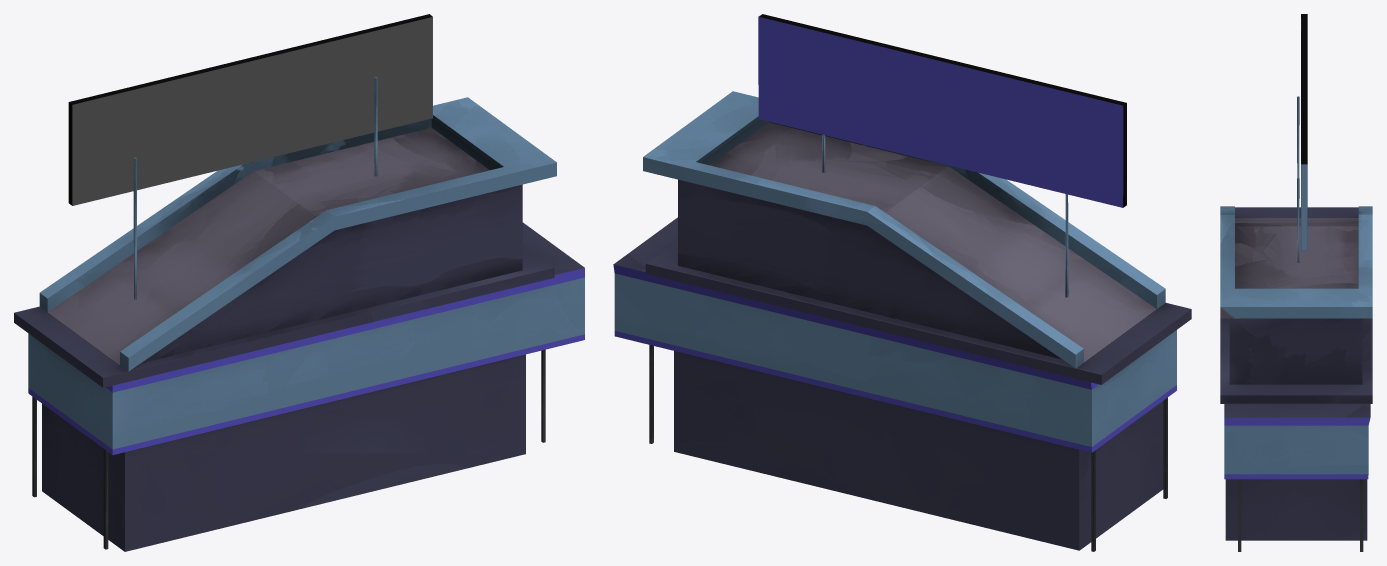
The model's file is Big Building 3.fbx.
The picture shows the model from 3 angles, left to right: view 1: azimuth 30°, elevation 25°; view 2: azimuth 150°, elevation 25°; view 3: azimuth 270°, elevation 25°; orthographic projection. The views are drawn at different scales.
Visible parts, largest first — view 1: FinalBuilding_Big_3; view 2: FinalBuilding_Big_3; view 3: FinalBuilding_Big_3.
Boxes of the visible parts, x1=… form: FinalBuilding_Big_3: x1=14, y1=14, x2=584, y2=551; FinalBuilding_Big_3: x1=613, y1=14, x2=1191, y2=551; FinalBuilding_Big_3: x1=1220, y1=14, x2=1372, y2=551.
Size of the model in its own units: 16.87 by 13.88 by 5.38.
